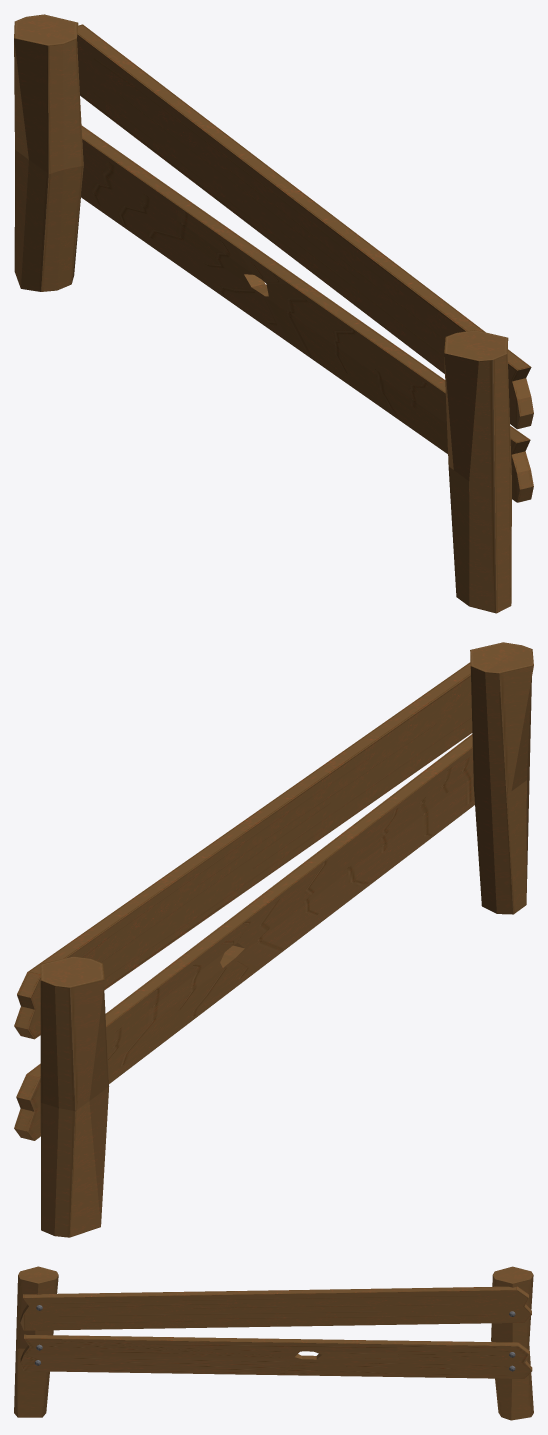
The model's file is Fence.fbx.
3 views of the same model, one above another, from view 1: azimuth 30°, elevation 25°; view 2: azimuth 150°, elevation 25°; view 3: azimuth 270°, elevation 25° (orthographic). The views are drawn at different scales.
Parts seen in each view (by area): view 1: Fence_Posts, Fence_Plank_NoHole, Fence_Plank_Hole; view 2: Fence_Posts, Fence_Plank_NoHole, Fence_Plank_Hole; view 3: Fence_Plank_NoHole, Fence_Plank_Hole, Fence_Posts, Fence_Nails.
Boxes of the visible parts, left/top/right/bottom form: Fence_Posts: left=14, top=14, right=511, bottom=613; Fence_Plank_NoHole: left=77, top=24, right=533, bottom=429; Fence_Plank_Hole: left=81, top=125, right=533, bottom=502; Fence_Posts: left=40, top=642, right=533, bottom=1237; Fence_Plank_NoHole: left=14, top=662, right=472, bottom=1039; Fence_Plank_Hole: left=14, top=734, right=474, bottom=1140; Fence_Plank_NoHole: left=20, top=1286, right=531, bottom=1330; Fence_Plank_Hole: left=20, top=1334, right=532, bottom=1378; Fence_Posts: left=14, top=1266, right=533, bottom=1420; Fence_Nails: left=34, top=1305, right=515, bottom=1371.
Size of the model in its own units: 25.08 by 79.1 by 269.
